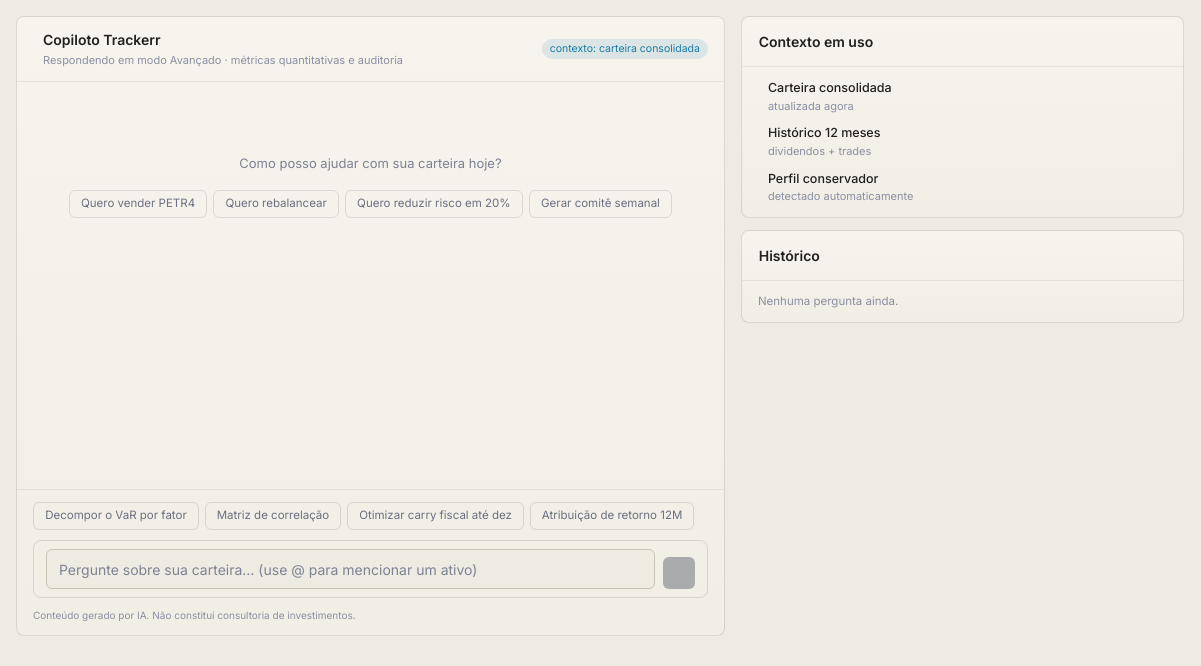
it: ChatInteligente › explains that market screening by indicator is not available
The width and height of the screenshot is (1201, 666).
Type "quais acoes com p/vp abaixo de 1.0?" into the field named "Pergunta do chat". click: [350, 569]
box: [46,549,655,589]
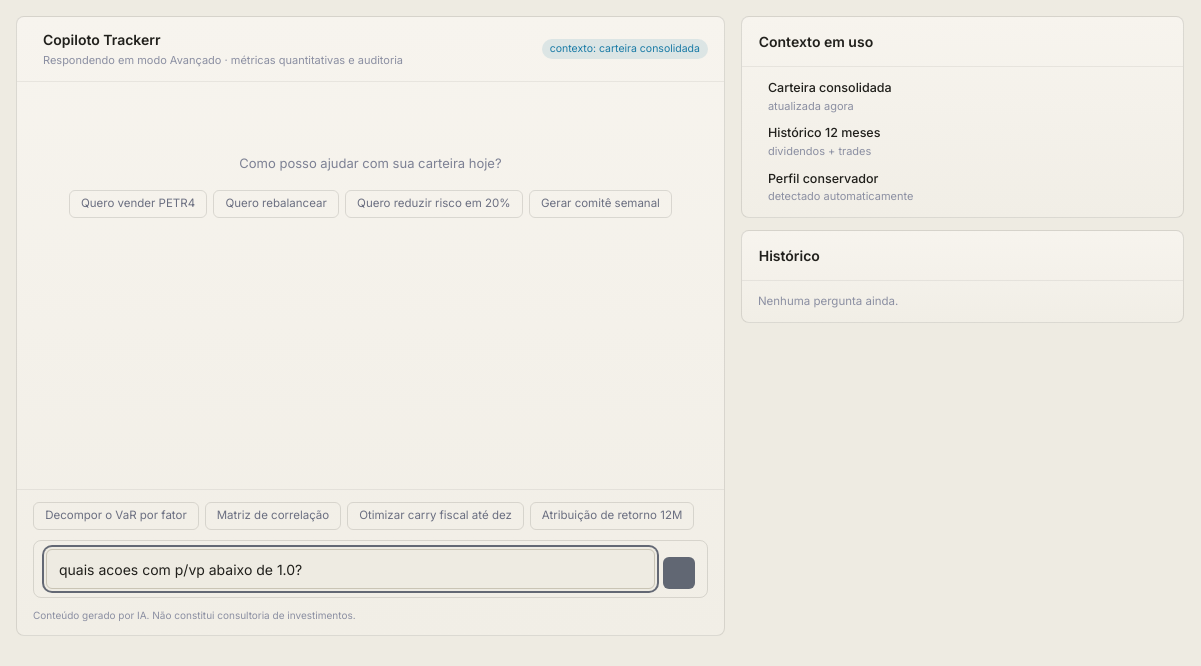
Click the button named "Enviar". click: [679, 573]
box: [663,557,695,589]
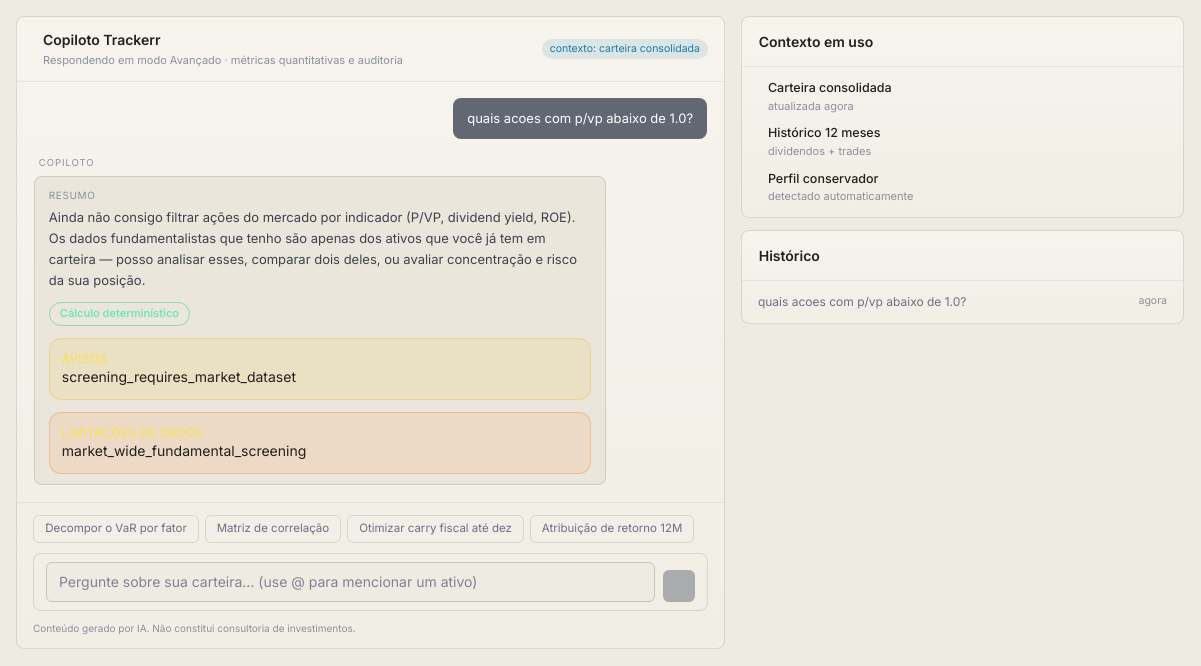
Expected: the text "não consigo filtrar ações do mercado por indicador" is shown, [49,209,581,288]
